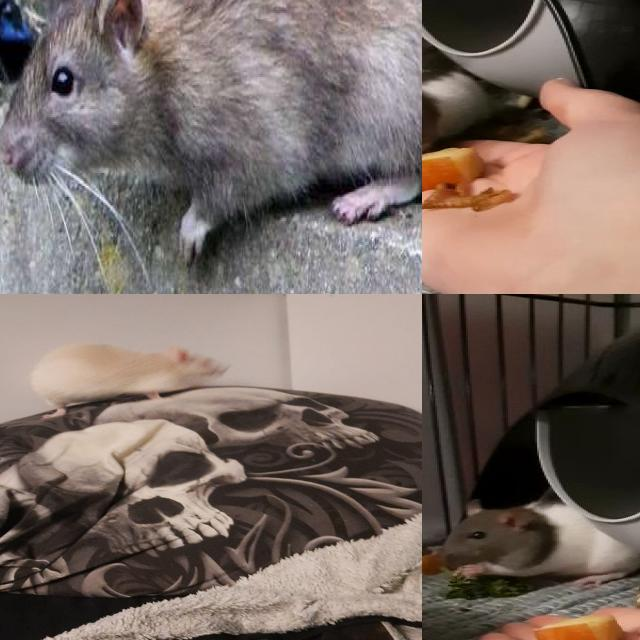rat: (0, 0, 422, 259), (422, 486, 640, 588), (35, 338, 228, 421), (422, 69, 493, 184)
